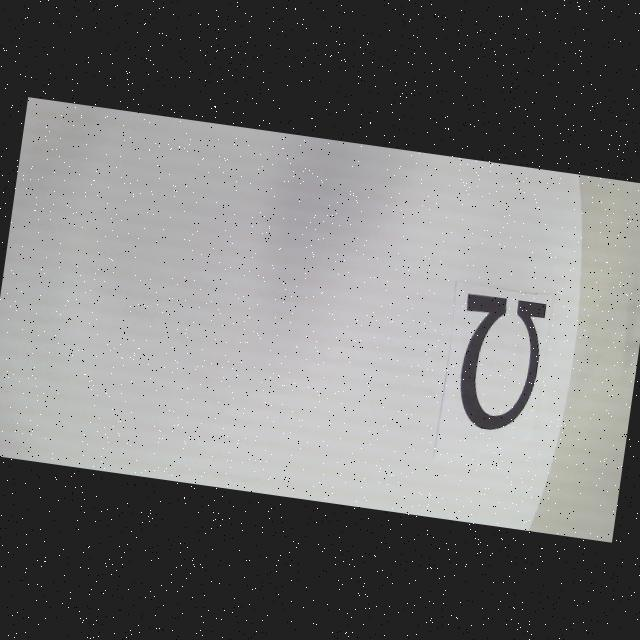OMEGA: (449, 293, 548, 436)
